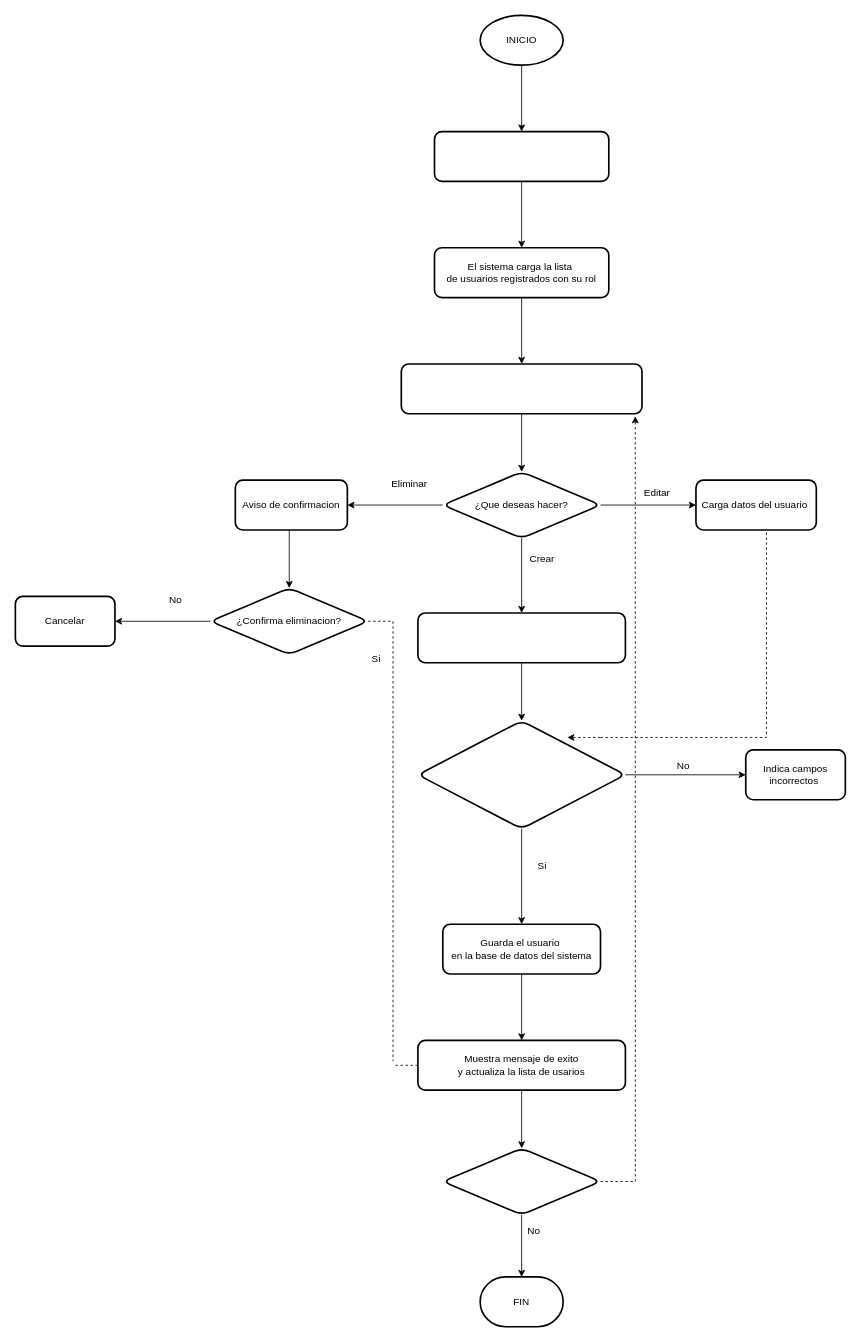
Image size: 860x1341. Some labels were removed from this diagram. Here are the shapes that lost their labels. From the top down, the centre of each, then its label:
At (x=521, y=156): "El administrador ingrese al modulo de gestion de usuarios".
At (x=521, y=388): "El administrador puede filtrar por nombre o por rol (operario / cliente)".
At (x=521, y=637): "Abre formulario de nuevo usuario nombre,correo, contraseña y rol".
At (x=521, y=774): "¿Los datos ingresados son validos?".
At (x=521, y=1181): "¿Desea continuar?".
